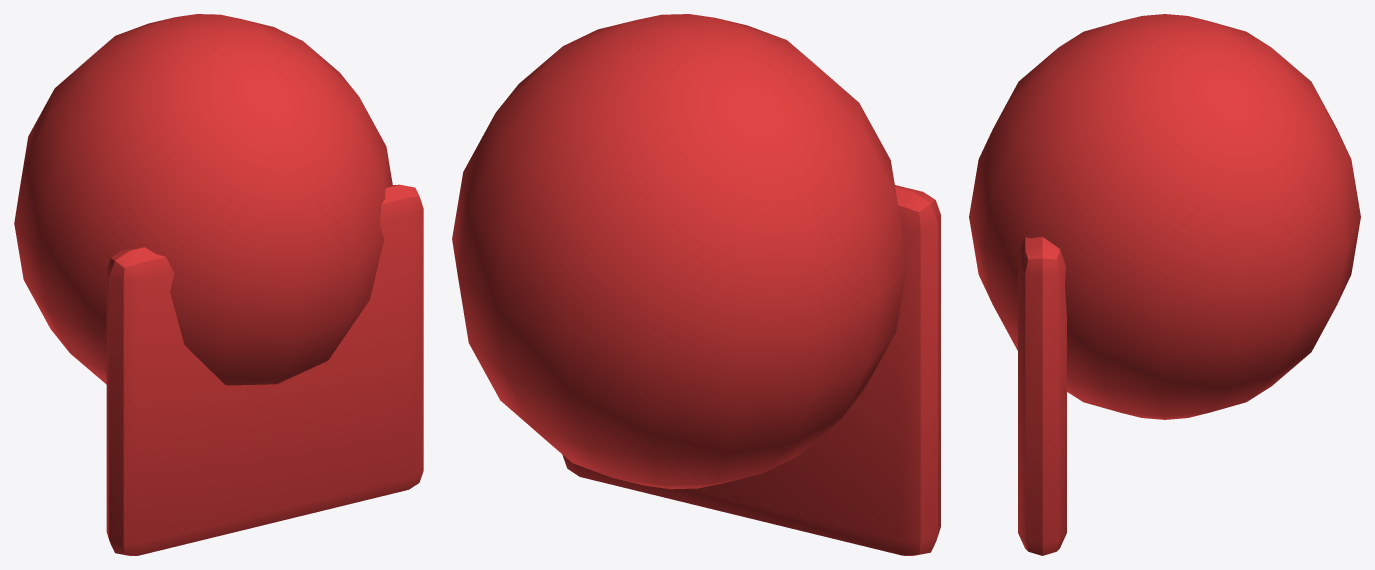
Rendered from AccHood.fbx.
The picture shows the model from 3 angles, left to right: view 1: azimuth 30°, elevation 25°; view 2: azimuth 150°, elevation 25°; view 3: azimuth 270°, elevation 25°; orthographic projection. The views are drawn at different scales.
Visible parts, largest first — view 1: AccHood; view 2: AccHood; view 3: AccHood.
Boxes of the visible parts, bbox=[...] form: AccHood: bbox=[14, 14, 423, 555]; AccHood: bbox=[452, 14, 940, 555]; AccHood: bbox=[969, 14, 1360, 555].
Bounding box in the file's own units: 160 × 206 × 160.
